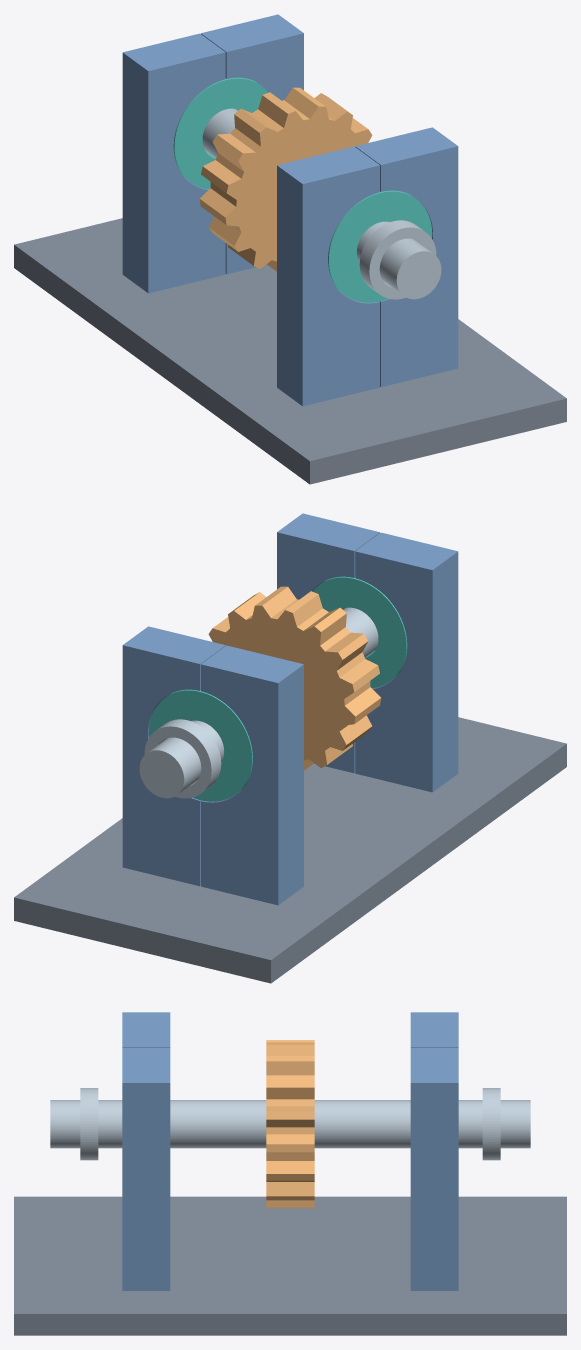
Rendered from assembly.glb.
The picture shows the model from 3 angles, top to bottom: view 1: azimuth 30°, elevation 25°; view 2: azimuth 150°, elevation 25°; view 3: azimuth 270°, elevation 25°; orthographic projection. The views are drawn at different scales.
Visible parts, largest first — view 1: base, rear_housing_left, front_housing_left, gear, rear_housing_right, front_housing_right, rear_bearing, front_bearing, shaft, rear_retainer; view 2: base, front_housing_left, rear_housing_left, gear, front_housing_right, rear_housing_right, front_bearing, rear_bearing, shaft, front_retainer; view 3: base, shaft, front_housing_right, rear_housing_right, gear, front_housing_left, rear_housing_left, front_retainer, rear_retainer.
Part boxes in pixels (<box>): base: <box>14,218,566,484</box>; rear_housing_left: <box>277,146,379,406</box>; front_housing_left: <box>122,33,225,293</box>; gear: <box>199,87,372,271</box>; rear_housing_right: <box>355,127,458,387</box>; front_housing_right: <box>201,14,303,274</box>; rear_bearing: <box>328,190,432,302</box>; front_bearing: <box>173,77,267,189</box>; shaft: <box>202,108,441,299</box>; rear_retainer: <box>359,220,436,299</box>; base: <box>14,717,566,983</box>; front_housing_left: <box>201,645,303,905</box>; rear_housing_left: <box>355,532,458,792</box>; gear: <box>208,586,381,770</box>; front_housing_right: <box>122,626,225,886</box>; rear_housing_right: <box>277,513,379,773</box>; front_bearing: <box>148,689,252,801</box>; rear_bearing: <box>313,576,407,688</box>; shaft: <box>139,607,378,798</box>; front_retainer: <box>144,719,221,798</box>; base: <box>14,1196,566,1335</box>; shaft: <box>50,1100,530,1148</box>; front_housing_right: <box>410,1048,458,1290</box>; rear_housing_right: <box>122,1048,170,1290</box>; gear: <box>266,1040,314,1208</box>; front_housing_left: <box>410,1012,458,1047</box>; rear_housing_left: <box>122,1012,170,1047</box>; front_retainer: <box>482,1088,500,1160</box>; rear_retainer: <box>80,1088,98,1160</box>.
Bounding box in the file's own units: 0.0382 × 0.0349 × 0.0762.
